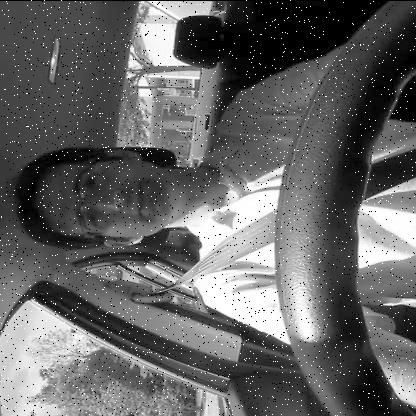seatbelt: (9, 102, 274, 306)
